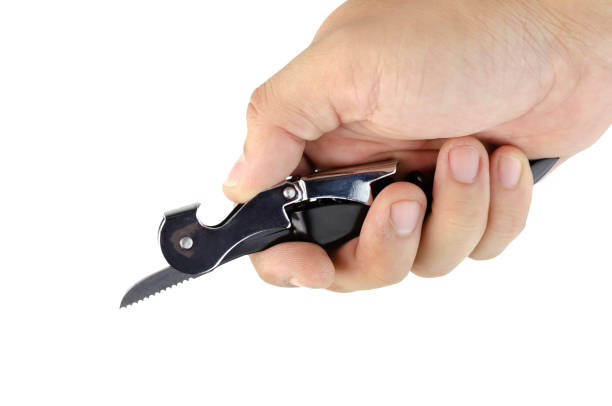knife: (115, 249, 226, 312)
